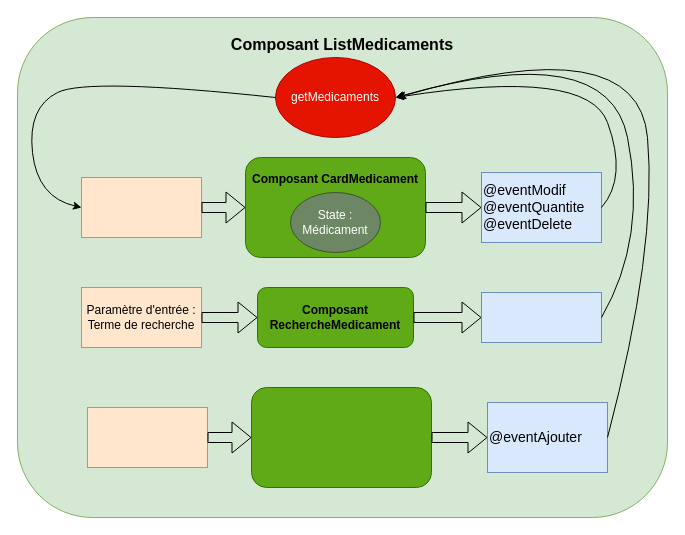
Some shapes in this 685 by 535 pixel diagram are drawn without their labels. The centre of each missing label's shape, as x and y in pixels:
@event Rechercher: (x=541, y=317)
Composant FormMedicament: (x=341, y=437)
Paramètre d'entrée : Médicament (dénomination, id, ...): (x=141, y=207)
Paramètres d'entrée : Dénomination, forme, quantité, photo: (x=147, y=437)
